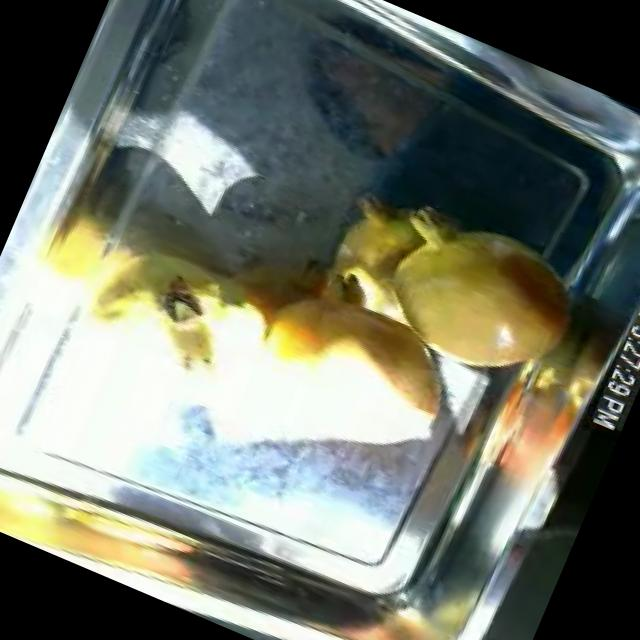fruit: (350, 182, 608, 410), (48, 204, 280, 429)
